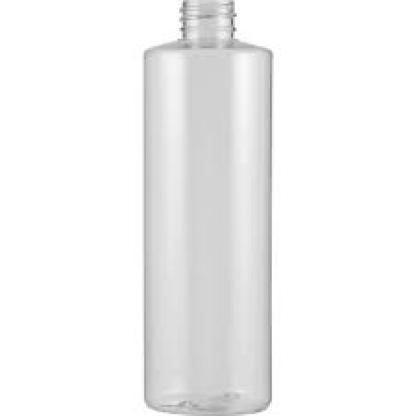trash: (144, 0, 271, 413)
